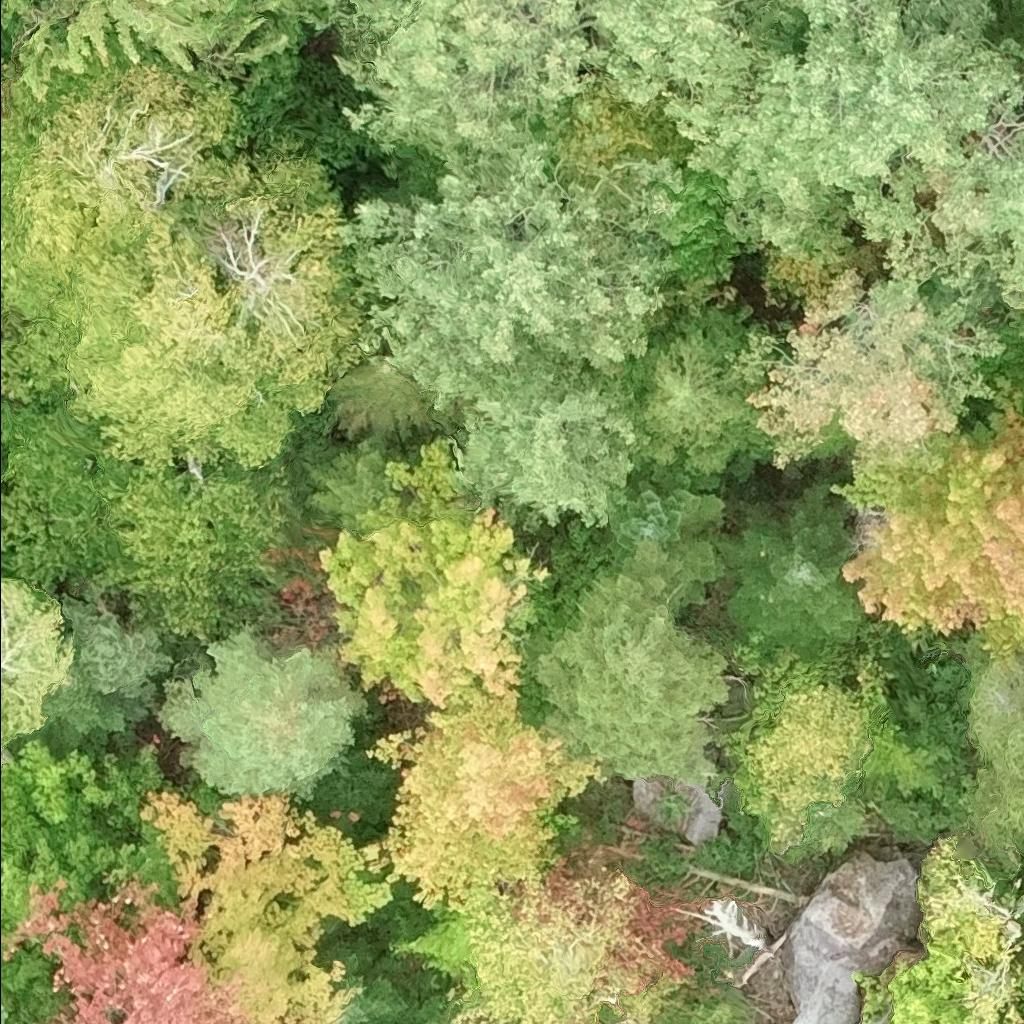crown: (0, 61, 387, 477), (338, 148, 680, 526), (601, 0, 1023, 269), (0, 401, 296, 642), (323, 439, 549, 722), (837, 88, 1023, 385), (141, 799, 386, 1023), (358, 689, 594, 911), (752, 271, 997, 472), (326, 0, 606, 163), (847, 413, 1023, 660), (536, 569, 730, 787), (731, 649, 896, 861), (162, 637, 365, 806), (0, 746, 117, 1023), (6, 885, 237, 1023), (855, 839, 1023, 1023), (454, 863, 643, 1023), (720, 486, 868, 664), (623, 305, 780, 472), (0, 579, 75, 772), (56, 606, 164, 706), (970, 646, 1023, 845), (301, 436, 407, 531), (605, 484, 724, 557), (47, 678, 125, 740), (343, 979, 399, 1023), (0, 1007, 6, 1023)
